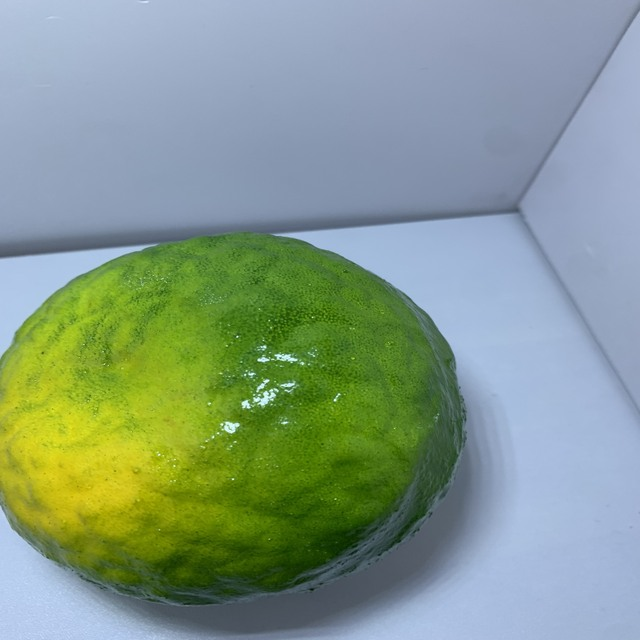Cam xanh: (8, 232, 476, 617)
